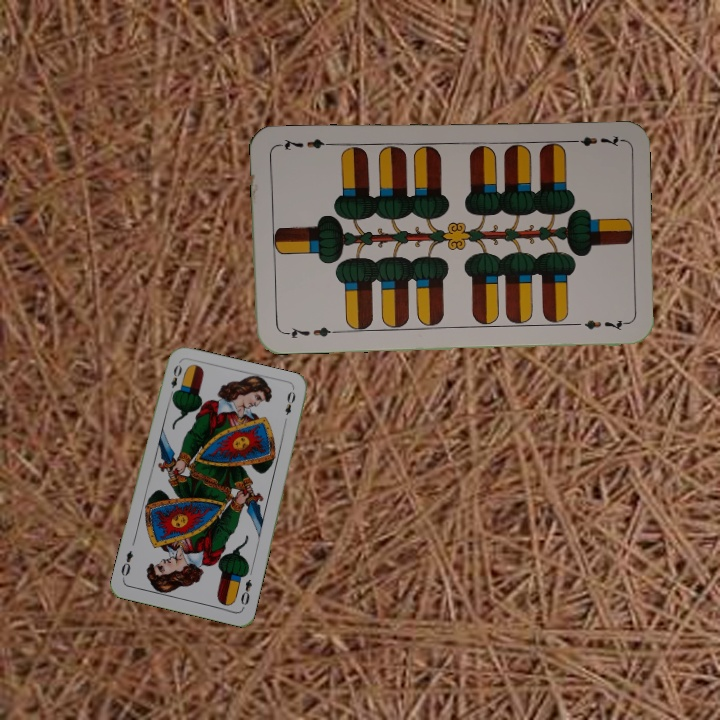E7: (279, 323, 338, 341), (564, 132, 623, 150)
EO: (166, 360, 184, 400), (237, 575, 255, 608)
